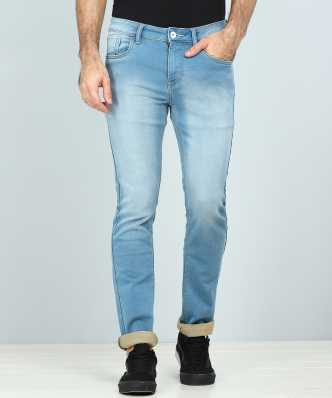jeans: (78, 14, 283, 334)
